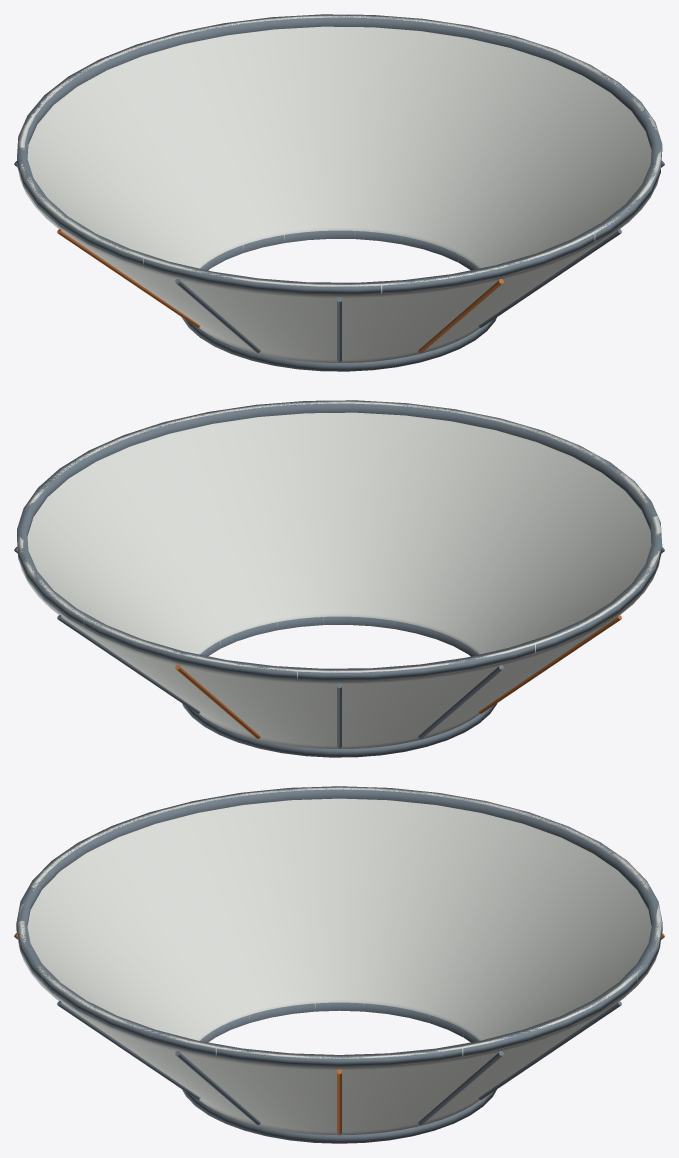
File: jugre_adapter_250_502.glb
The picture shows the model from 3 angles, top to bottom: view 1: azimuth 30°, elevation 25°; view 2: azimuth 150°, elevation 25°; view 3: azimuth 270°, elevation 25°; orthographic projection.
Parts seen in each view (by area): view 1: jugre_adapter_250_502.mesh_Pale_thermal_blanket, jugre_adapter_250_502.mesh_Machined_steel, jugre_adapter_250_502.mesh_Spray-on_insulation; view 2: jugre_adapter_250_502.mesh_Pale_thermal_blanket, jugre_adapter_250_502.mesh_Machined_steel, jugre_adapter_250_502.mesh_Spray-on_insulation; view 3: jugre_adapter_250_502.mesh_Pale_thermal_blanket, jugre_adapter_250_502.mesh_Machined_steel.
Part boxes in pixels (<box>): jugre_adapter_250_502.mesh_Pale_thermal_blanket: <box>18,14,661,362</box>; jugre_adapter_250_502.mesh_Machined_steel: <box>14,14,664,371</box>; jugre_adapter_250_502.mesh_Spray-on_insulation: <box>57,229,503,352</box>; jugre_adapter_250_502.mesh_Pale_thermal_blanket: <box>17,400,660,748</box>; jugre_adapter_250_502.mesh_Machined_steel: <box>14,400,664,757</box>; jugre_adapter_250_502.mesh_Spray-on_insulation: <box>175,615,621,738</box>; jugre_adapter_250_502.mesh_Pale_thermal_blanket: <box>17,786,661,1135</box>; jugre_adapter_250_502.mesh_Machined_steel: <box>16,786,662,1143</box>.
Size of the model in its own units: 5.07 by 1.31 by 5.07.
